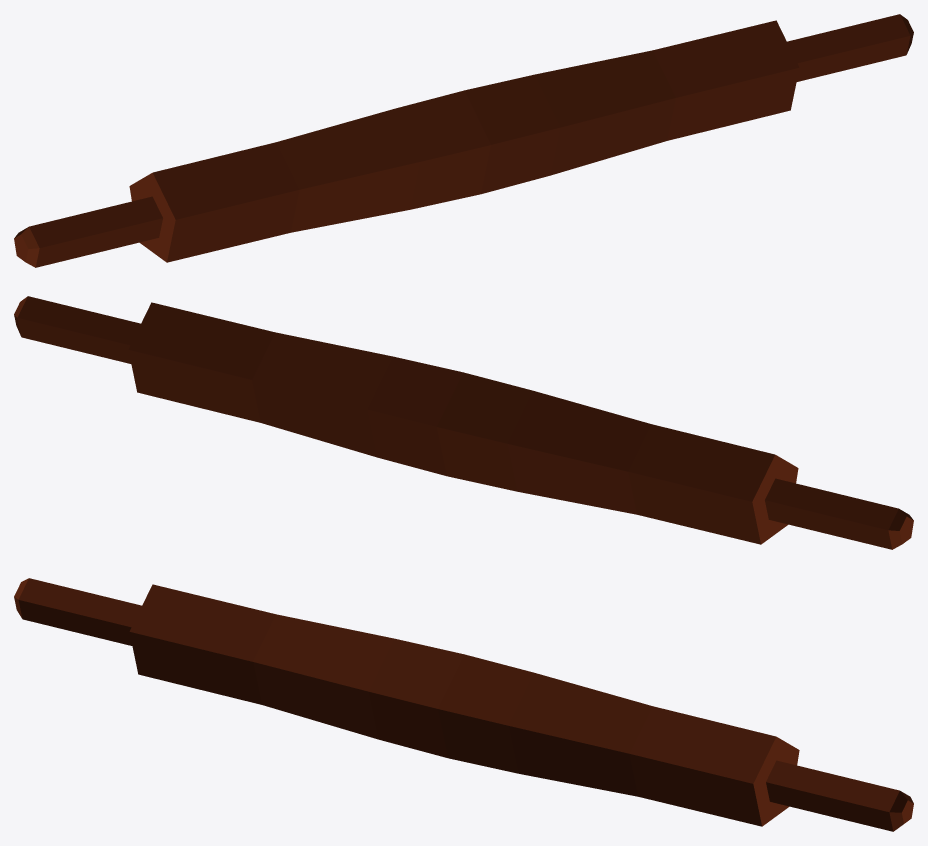
Rendered from Rolling Pin.fbx.
3 renders of one model, top to bottom at view 1: azimuth 30°, elevation 25°; view 2: azimuth 150°, elevation 25°; view 3: azimuth 330°, elevation 25°, orthographic.
Visible parts, largest first — view 1: Node 0; view 2: Node 0; view 3: Node 0.
Part boxes in pixels (bbox=[...]): Node 0: bbox=[14, 14, 913, 267]; Node 0: bbox=[14, 296, 913, 549]; Node 0: bbox=[14, 578, 913, 831].
Size of the model in its own units: 0.0839 by 0.0798 by 0.8056.
